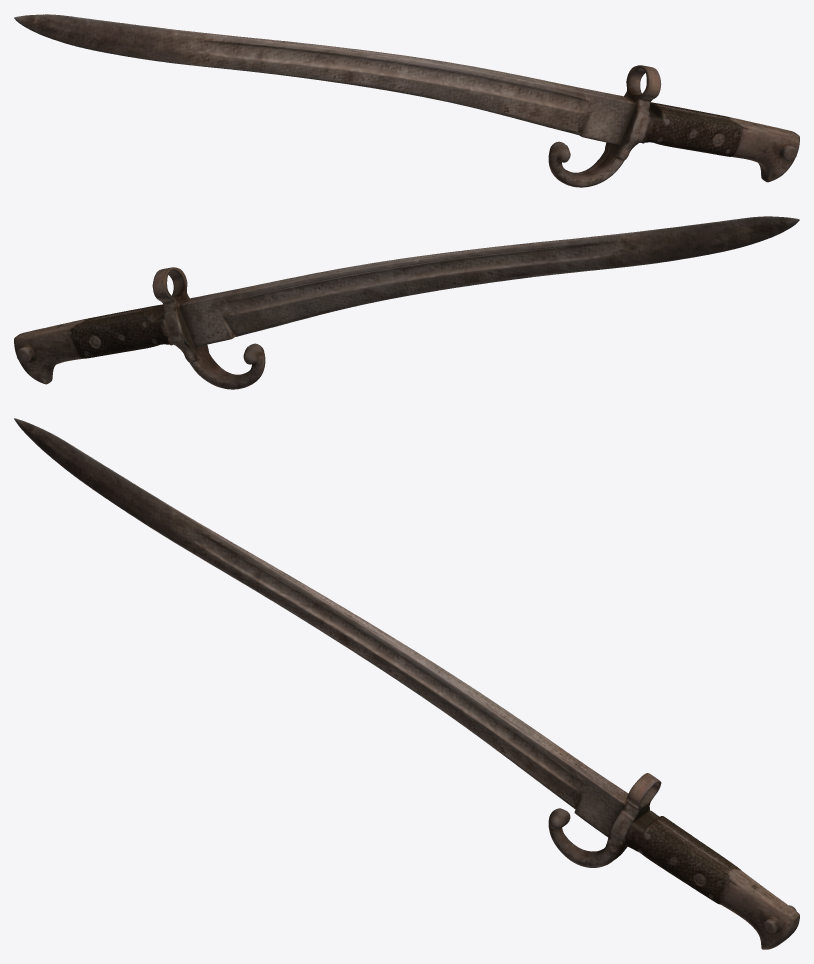
File: bajonet.glb
3 views of the same model, one above another, from view 1: azimuth 30°, elevation 25°; view 2: azimuth 150°, elevation 25°; view 3: azimuth 330°, elevation 25° (orthographic).
Size of the model in its own units: 1.91 by 0.8056 by 0.0969.
1 material, 1 textured.
